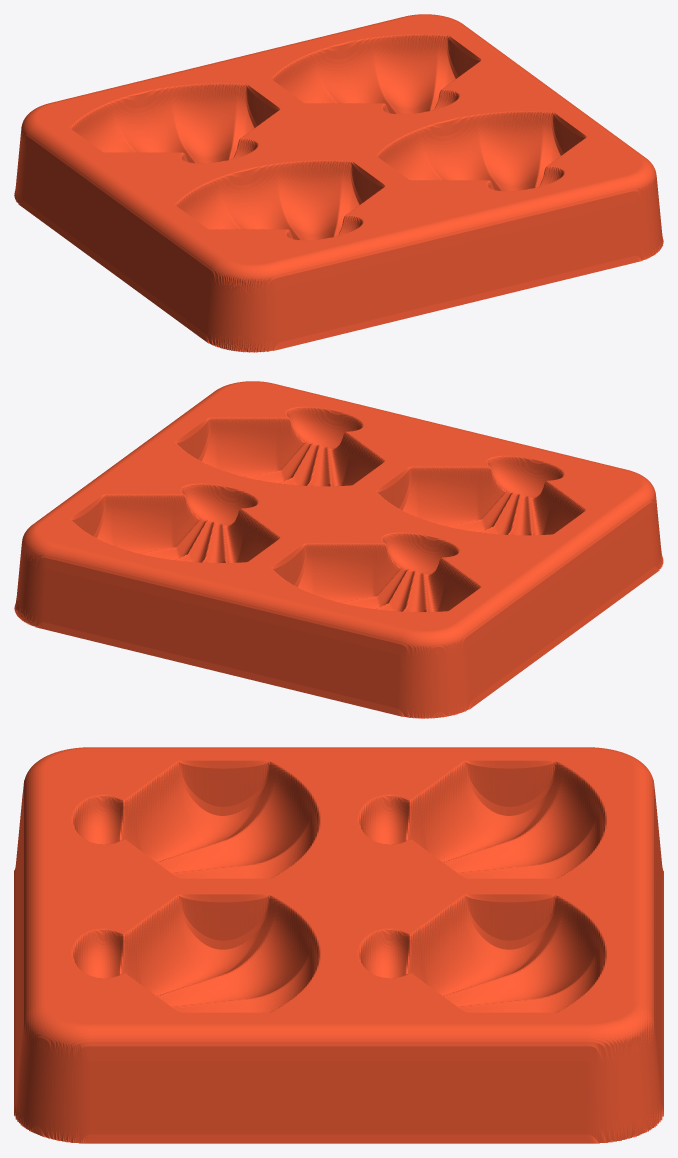
The model's file is mold.glb.
The picture shows the model from 3 angles, top to bottom: view 1: azimuth 30°, elevation 25°; view 2: azimuth 150°, elevation 25°; view 3: azimuth 270°, elevation 25°; orthographic projection. The views are drawn at different scales.
Parts seen in each view (by area): view 1: geometry_0; view 2: geometry_0; view 3: geometry_0.
Part boxes in pixels (x1,y1,x2,y2): geometry_0: [14, 14, 663, 352]; geometry_0: [14, 381, 663, 718]; geometry_0: [14, 747, 663, 1143].
Size of the model in its own units: 0.0844 by 0.014 by 0.0772.
